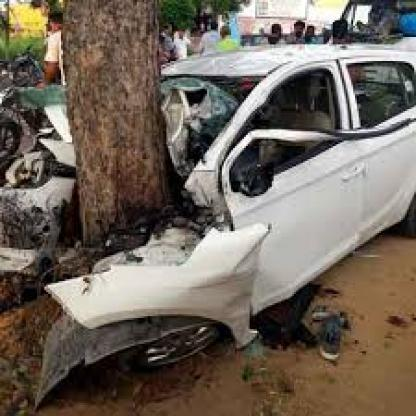accident: (4, 26, 416, 383)
